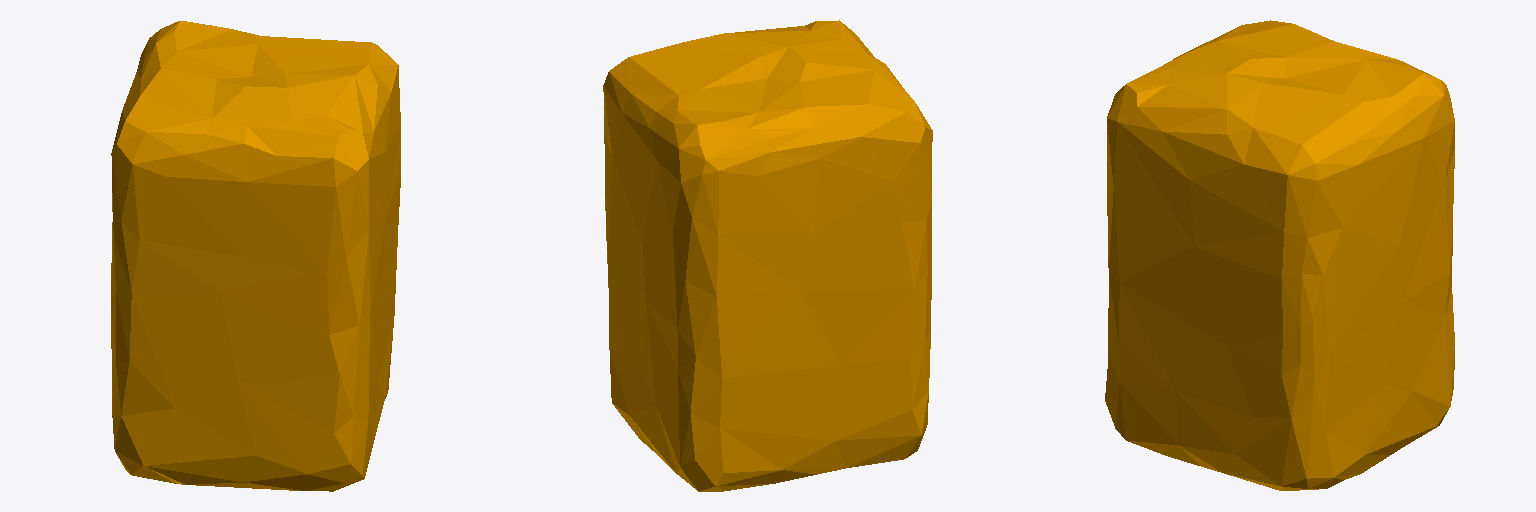
robot.urdf — pop_tarts_strawberry:
<?xml version="1.0"?>
<robot name="pop_tarts_strawberry">
  <link name="base_link">
    <contact>
      <lateral_friction value="1.0"/>
      <rolling_friction value="0.0"/>
      <contact_cfm value="0.0"/>
      <contact_erp value="1.0"/>
    </contact>
    <inertial>
      <mass value="0.824343413308"/>
      <inertia ixx="1" ixy="0" ixz="0" iyy="1" iyz="0" izz="1"/>
    </inertial>
    <visual>
      <geometry>
        <mesh filename="pop_tarts_strawberry_visual.obj"/>
      </geometry>
    </visual>
    <collision>
      <geometry>
        <mesh filename="pop_tarts_strawberry_collision.obj"/>
      </geometry>
    </collision>
  </link>
</robot>

--- Facts derived from the render (not from the file) ---
Views: 3 orthographic renders of the robot side by side, from view 1: azimuth 30°, elevation 25°; view 2: azimuth 150°, elevation 25°; view 3: azimuth 270°, elevation 25°.
Model pop_tarts_strawberry with 1 links and 0 joints (none), rooted at base_link, posed every joint at zero.
Visible links, largest first — view 1: base_link; view 2: base_link; view 3: base_link.
Boxes of the visible links, box(x1,y1,x2,y2) form: base_link: box(111, 21, 400, 491); base_link: box(603, 20, 932, 491); base_link: box(1105, 20, 1454, 490).
Bounding box of the posed robot: 0.0687 × 0.07 × 0.0822 m (x, y, z).
1 mesh visuals loaded from 1 distinct referenced files (1 OBJ).